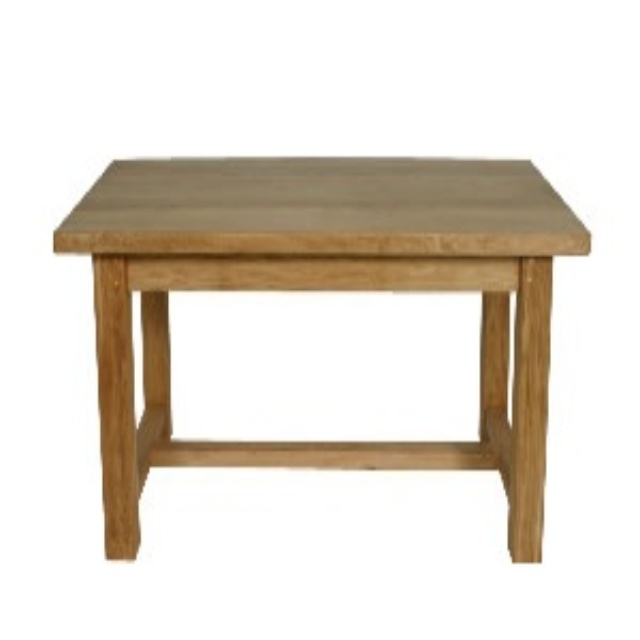obstacle: (53, 157, 589, 560)
